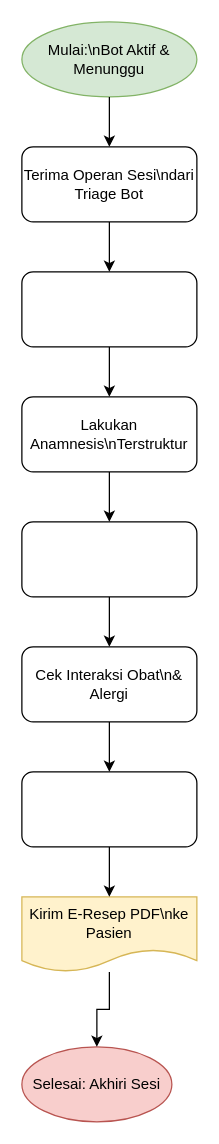
The diagram is 219 pixels wide and 1144 high, and some of its shapes have lost their labels. Here are the shapes that lost their labels. From the top down, the centre of each, then its label:
At pixel 109 309: "Analisis Keluhan &\nBiodata Pasien".
At pixel 109 559: "Tetapkan Diagnosis Kerja".
At pixel 109 809: "Buat E-Resep & Anjuran".
